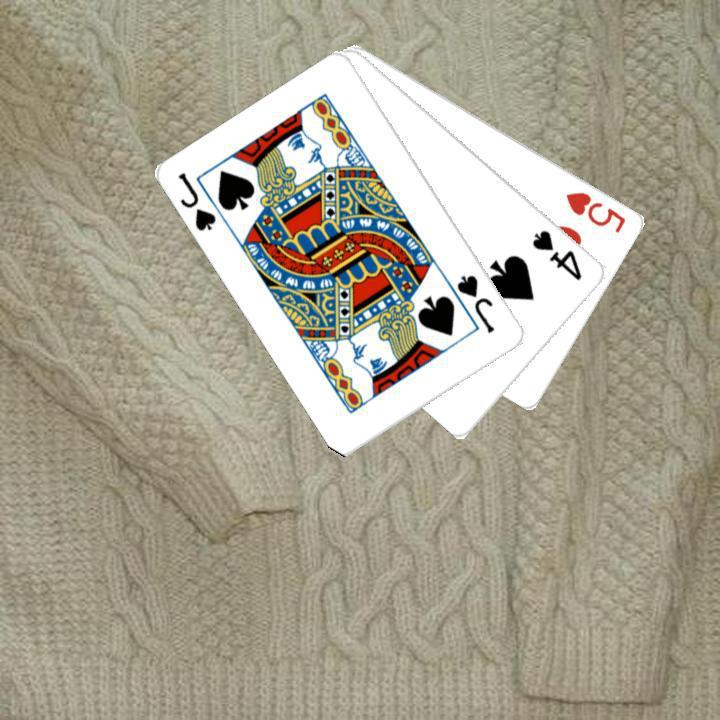4: (528, 225, 585, 282)
5: (562, 187, 629, 235)
J: (174, 168, 219, 234), (452, 270, 497, 335)
